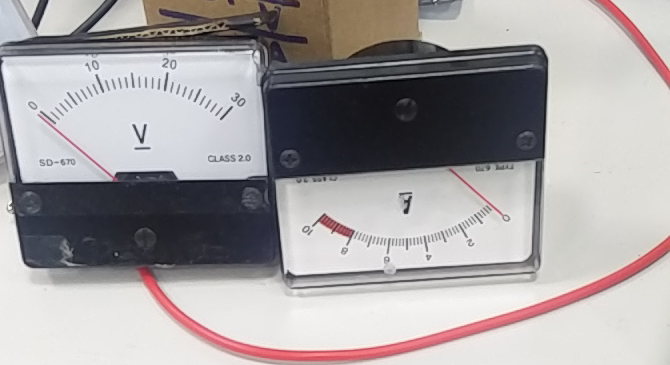Amp_Meter: (273, 158, 546, 292)
Volt_Meter: (1, 47, 271, 195)
